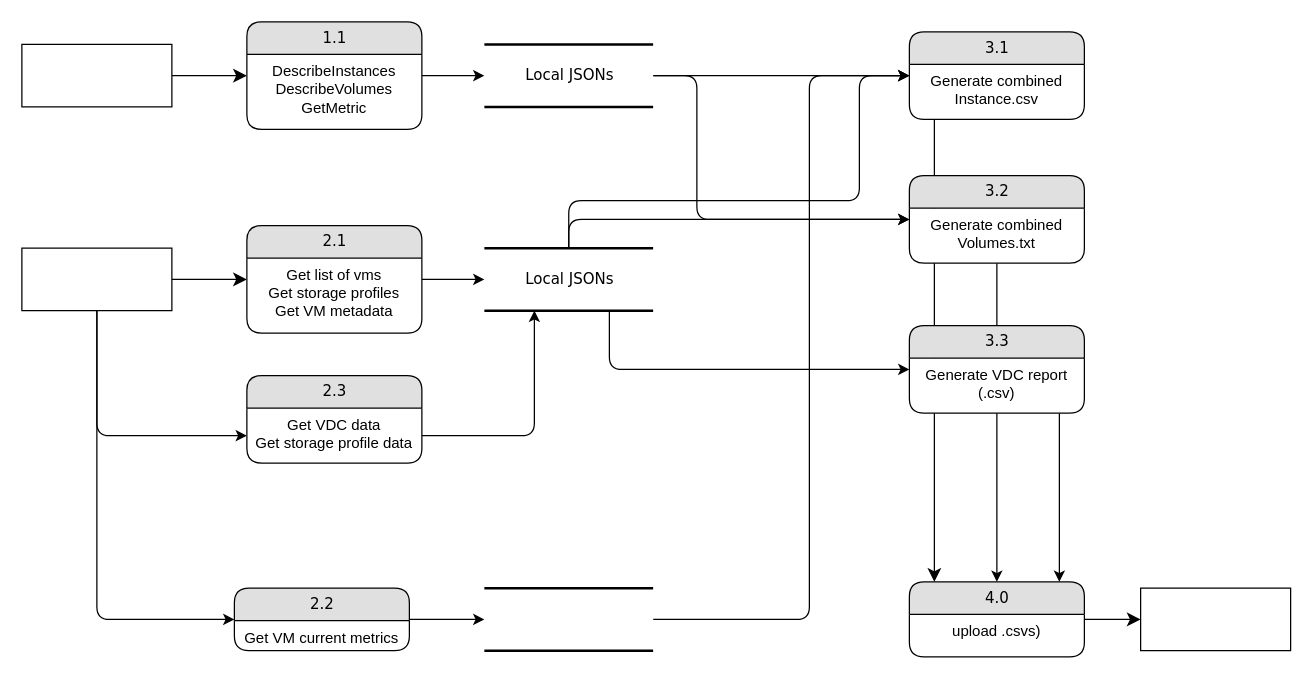
Image size: 1313x683. Some labels were removed from this diagram. Each missing label, with the centre of its shape:
"Cloud API" belongs at point (96, 279).
"CM database (PostgreSQL)" belongs at point (568, 618).
"Croc API" belongs at point (96, 75).
"Yandex S3" belongs at point (1215, 619).
